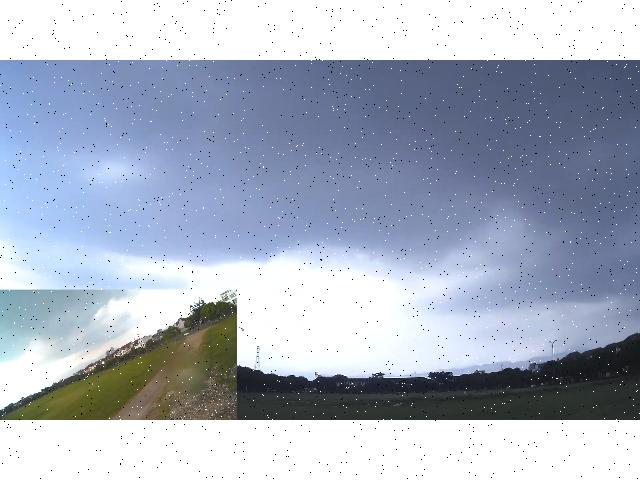Anti-Drone: (234, 322, 252, 334)
